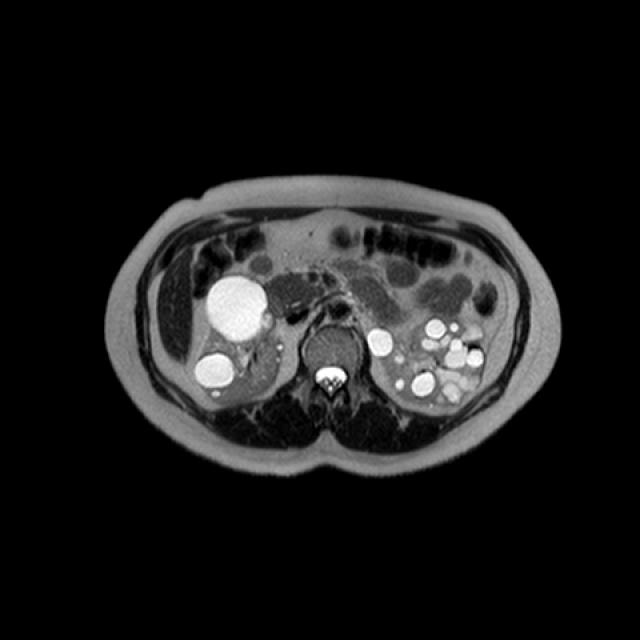sag: (191, 272, 285, 409)
sol: (365, 315, 487, 409)
